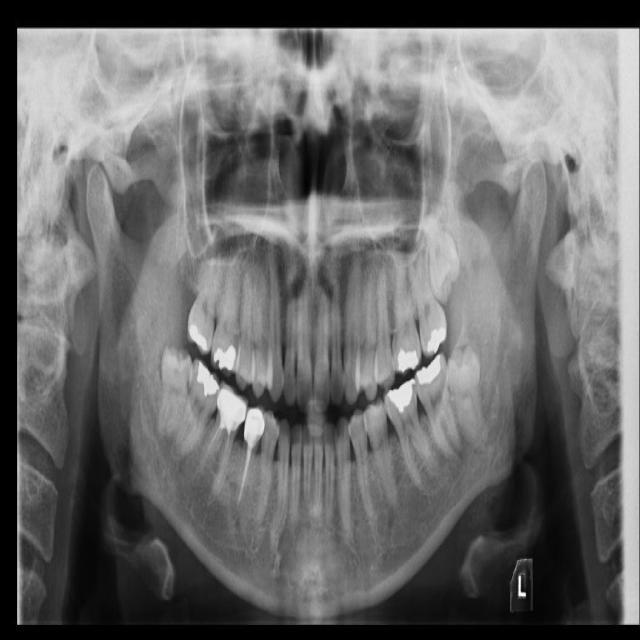52: (174, 353, 236, 418), (198, 377, 260, 439), (376, 373, 436, 430), (402, 346, 456, 408), (385, 316, 425, 374), (182, 297, 219, 358), (209, 322, 244, 380), (419, 300, 447, 360), (242, 404, 267, 453)
73: (194, 422, 237, 495), (232, 440, 257, 509), (598, 568, 610, 590)
BioHorizons Implant: (401, 227, 455, 359)
BioLife Implant: (420, 210, 466, 307)
Biomet 3i Implant: (444, 345, 490, 455)
Blue Sky Bio Implant: (409, 350, 464, 461)
Caries: (184, 230, 229, 358)
Implant: (171, 355, 229, 464)
Keystone Dental Implant: (155, 342, 195, 439)
